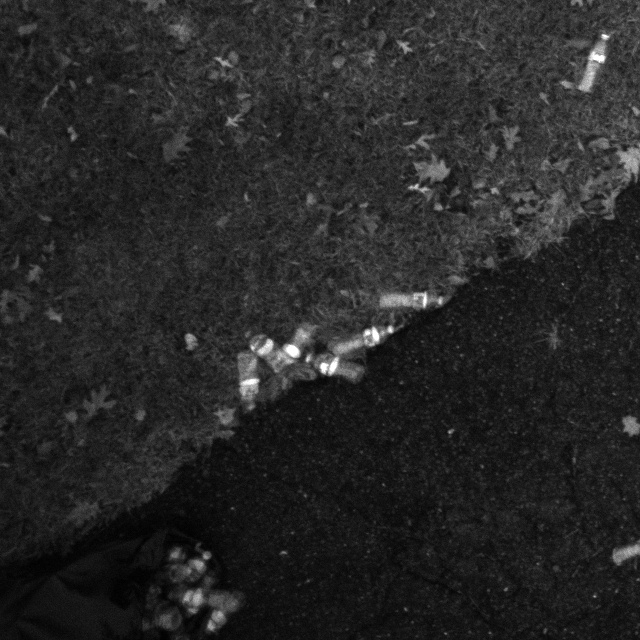bottle: (273, 315, 321, 403), (249, 329, 311, 396), (168, 572, 254, 620), (569, 27, 621, 102), (330, 312, 406, 360), (225, 339, 269, 419), (306, 346, 375, 389), (376, 286, 456, 320)
